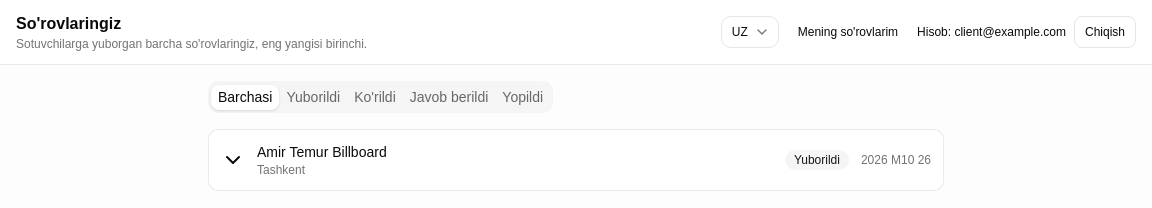
Test: switching language on the page › swaps the rendered strings and sets <html lang> without refetching
Expected: the heading "So'rovlaringiz" is shown, [16, 15, 121, 32]
Click the dropdown. click: (750, 32)
box: [721, 16, 779, 48]
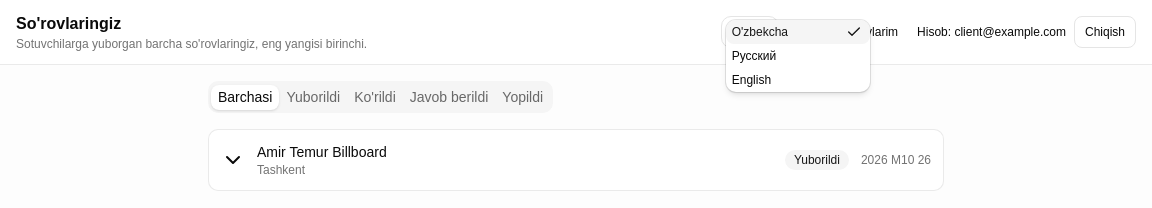
Click the option "Русский". click: (754, 56)
box: [732, 49, 776, 63]
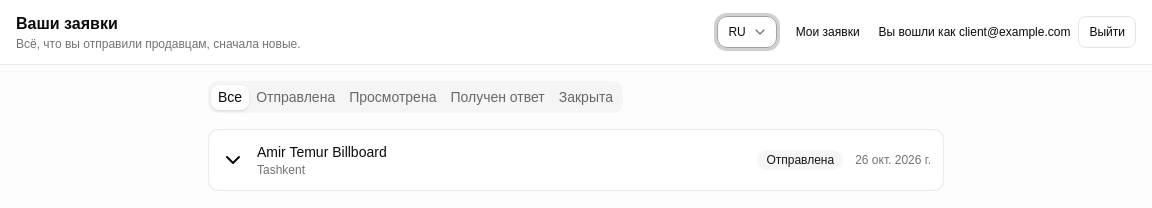
Expected: the heading "Ваши заявки" is shown, [16, 15, 118, 32]
Expected: the text "Отправлена" is shown, [757, 150, 843, 170]
